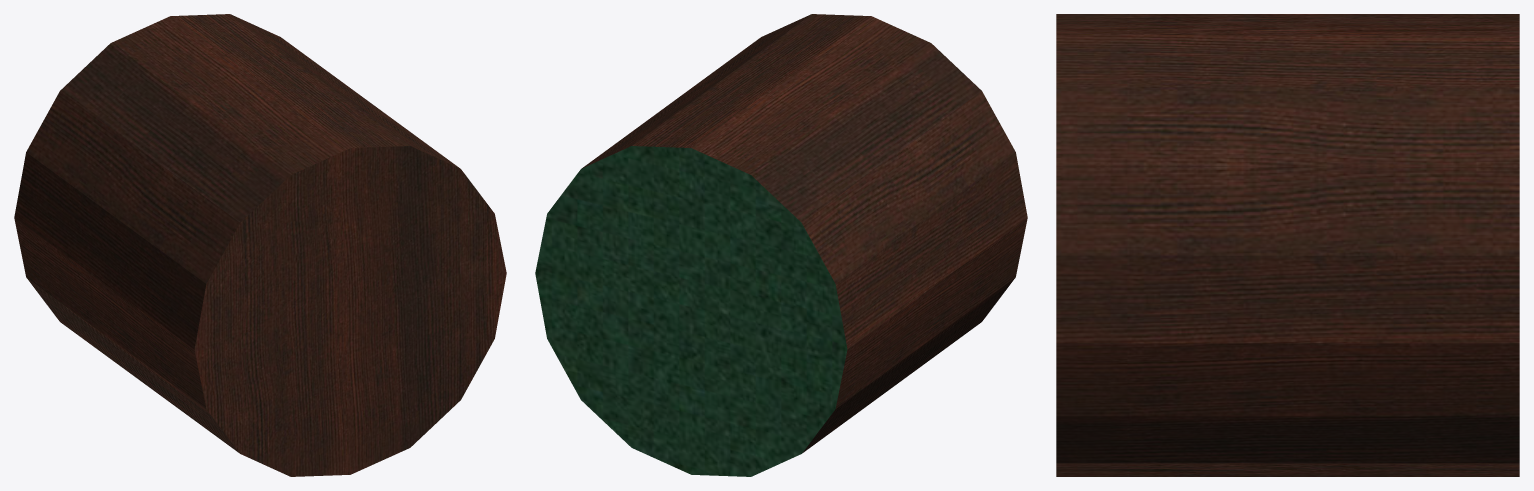
The picture shows the model from 3 angles, left to right: view 1: azimuth 30°, elevation 25°; view 2: azimuth 150°, elevation 25°; view 3: azimuth 270°, elevation 25°; orthographic projection. The views are drawn at different scales.
Visible parts, largest first — view 1: Cube_Cube_None_QuartoPieces.png; view 2: Cube_Cube_None_QuartoPieces.png; view 3: Cube_Cube_None_QuartoPieces.png.
Part boxes in pixels (bbox=[...]): Cube_Cube_None_QuartoPieces.png: bbox=[14, 14, 506, 476]; Cube_Cube_None_QuartoPieces.png: bbox=[535, 14, 1027, 476]; Cube_Cube_None_QuartoPieces.png: bbox=[1056, 14, 1519, 476].
Size of the model in its own units: 2 by 2 by 2.
